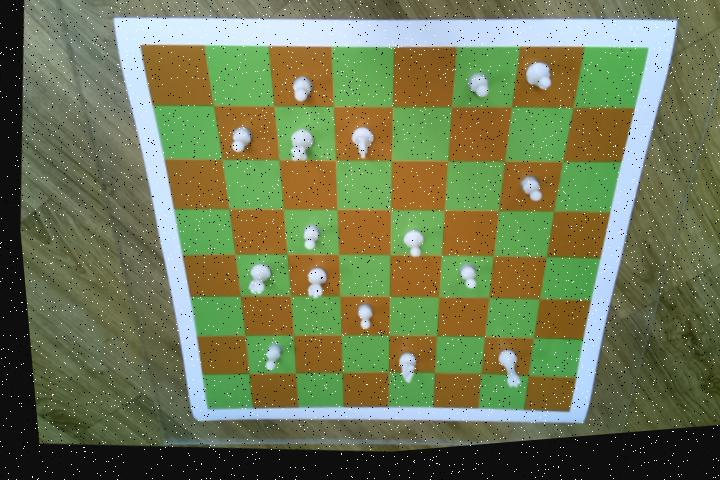chessboard-detect: (138, 45, 646, 422)
